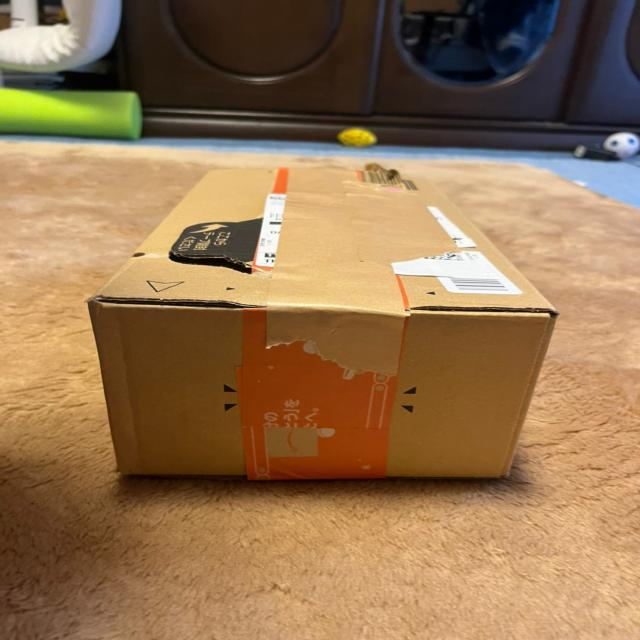-: (80, 159, 569, 493)
